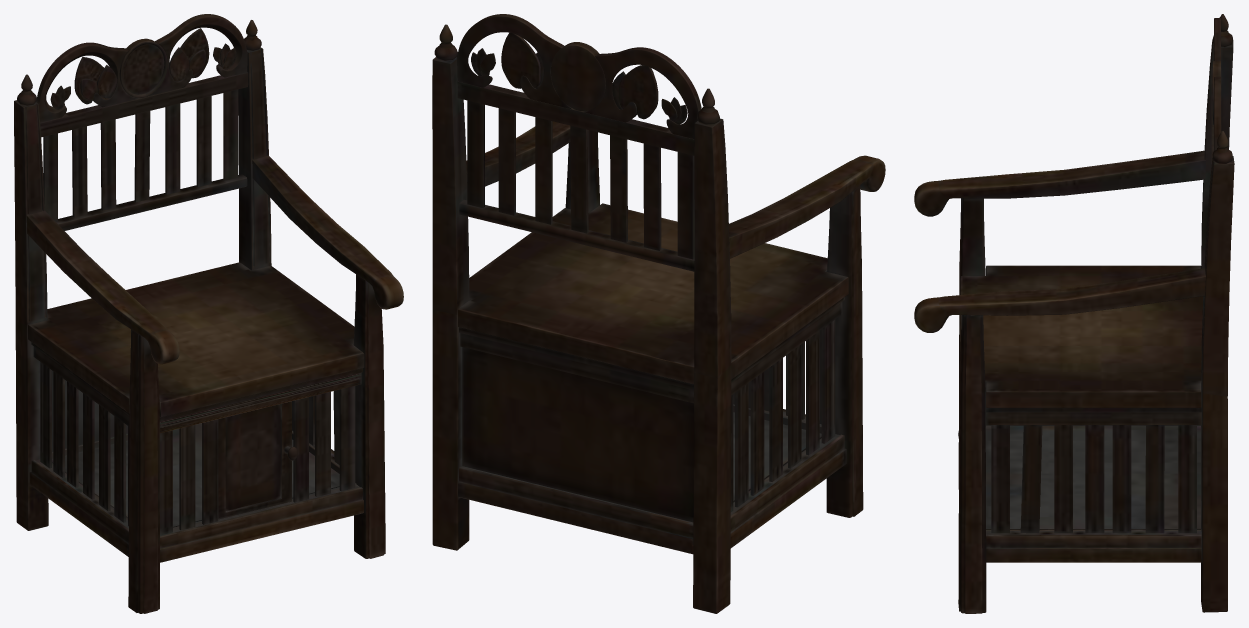
3 renders of one model, left to right at view 1: azimuth 30°, elevation 25°; view 2: azimuth 150°, elevation 25°; view 3: azimuth 270°, elevation 25°, orthographic. The views are drawn at different scales.
Parts seen in each view (by area): view 1: gallinera_chair; view 2: gallinera_chair; view 3: gallinera_chair.
Part boxes in pixels (x1,y1,x2,y2): gallinera_chair: [14, 14, 403, 613]; gallinera_chair: [432, 14, 885, 613]; gallinera_chair: [914, 14, 1234, 613].
Bounding box in the file's own units: 0.5808 × 1.03 × 0.6039.
Materials: 1 (1 with a texture image).
